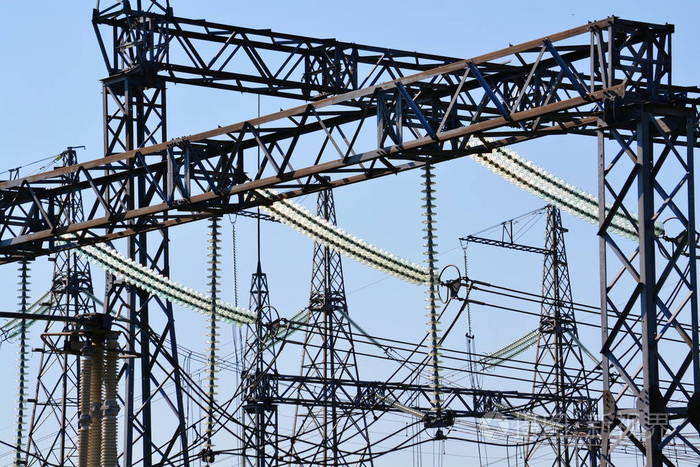insulator: (479, 145, 665, 240), (258, 191, 430, 287), (85, 243, 258, 327), (419, 166, 450, 412), (200, 217, 223, 445), (11, 260, 34, 467)
